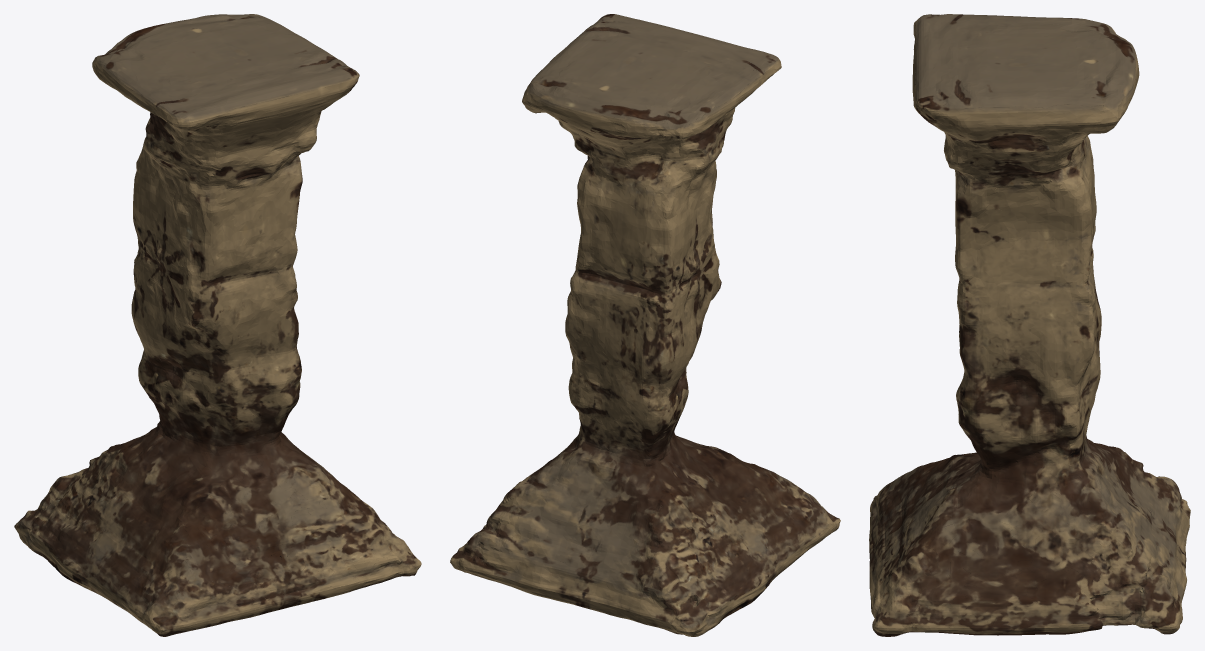
Rendered from resize_004.glb.
3 renders of one model, left to right at view 1: azimuth 30°, elevation 25°; view 2: azimuth 150°, elevation 25°; view 3: azimuth 270°, elevation 25°, orthographic. The views are drawn at different scales.
Parts seen in each view (by area): view 1: Node; view 2: Node; view 3: Node.
Boxes of the visible parts, x1=… form: Node: x1=14, y1=14, x2=421, y2=636; Node: x1=450, y1=14, x2=840, y2=636; Node: x1=869, y1=14, x2=1190, y2=636.
Size of the model in its own units: 0.519 by 0.9397 by 0.5178.
1 material, 1 textured.
